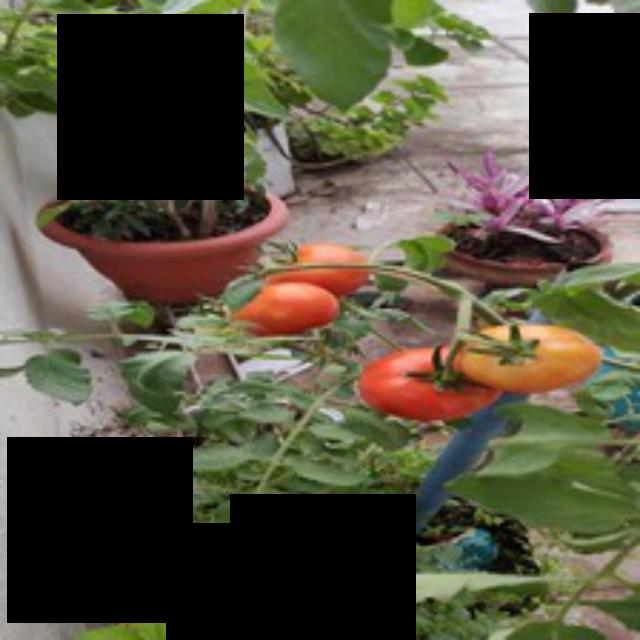tomato: (354, 338, 511, 428), (234, 270, 338, 342)
